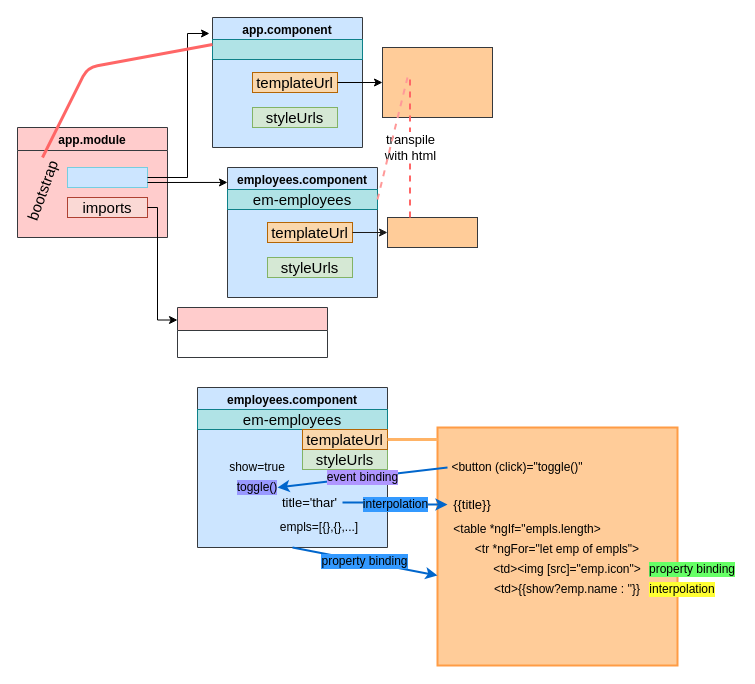
Some shapes in this 755 by 684 pixel diagram are drawn without their labels. Here are the shapes that lost their labels. From the top down, the centre of each, then its label:
At point 287,49: "em-root".
At point 437,82: "<em-employees>".
At point 107,177: "delarations".
At point 252,332: "browser.module".
